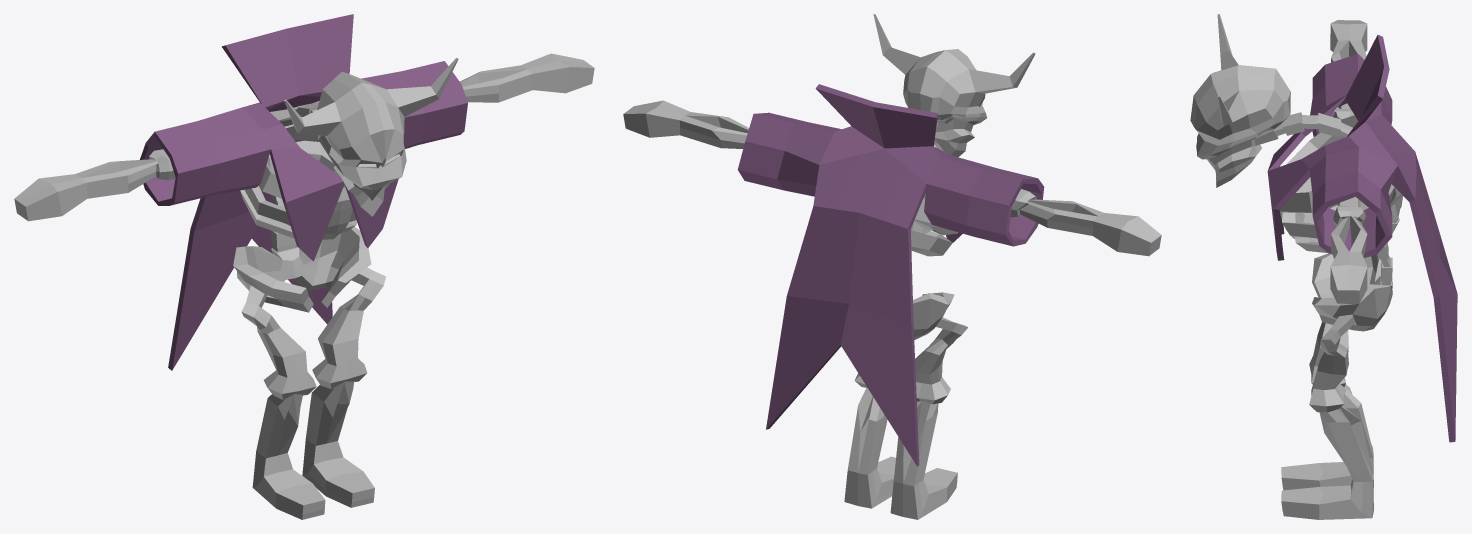
File: BossTpose.fbx
The picture shows the model from 3 angles, left to right: view 1: azimuth 30°, elevation 25°; view 2: azimuth 150°, elevation 25°; view 3: azimuth 270°, elevation 25°; orthographic projection. The views are drawn at different scales.
Parts seen in each view (by area): view 1: Body, Cape; view 2: Cape, Body; view 3: Body, Cape.
Boxes of the visible parts, x1,y1,x2,y2 form: Body: (14, 53, 594, 519); Cape: (140, 14, 467, 370); Cape: (737, 84, 1044, 466); Body: (623, 14, 1161, 519); Body: (1190, 14, 1402, 519); Cape: (1267, 35, 1457, 442).
Size of the model in its own units: 50.93 by 39.09 by 21.29.
